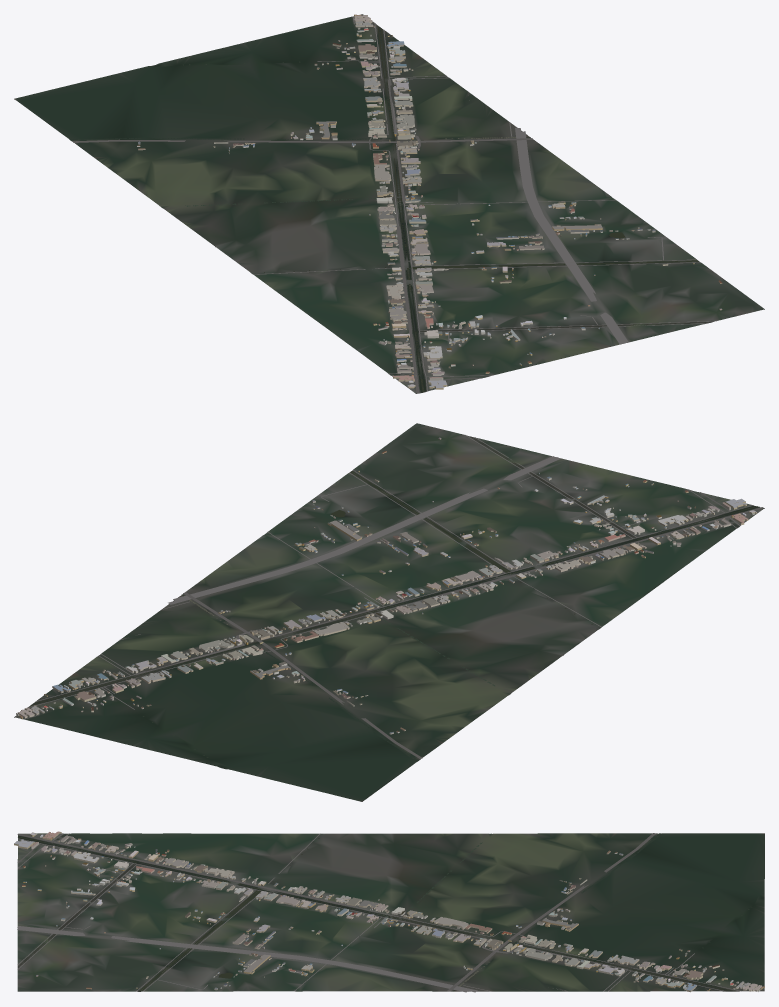
3 renders of one model, top to bottom at view 1: azimuth 30°, elevation 25°; view 2: azimuth 150°, elevation 25°; view 3: azimuth 270°, elevation 25°, orthographic. The views are drawn at different scales.
Parts seen in each view (by area): view 1: ground, buildings, roads, water; view 2: ground, buildings, roads, water; view 3: ground, buildings, roads, water.
Boxes of the visible parts, x1,y1,x2,y2 form: ground: (14, 14, 764, 393); buildings: (137, 14, 722, 389); roads: (73, 16, 716, 393); water: (70, 25, 712, 392); ground: (14, 423, 764, 801); buildings: (16, 437, 756, 734); roads: (23, 435, 763, 758); water: (30, 436, 759, 760); ground: (17, 833, 764, 991); buildings: (14, 831, 764, 992); roads: (17, 833, 763, 992); water: (18, 833, 751, 991).
Bounding box in the file's own units: 1415 × 17.36 × 2816.
